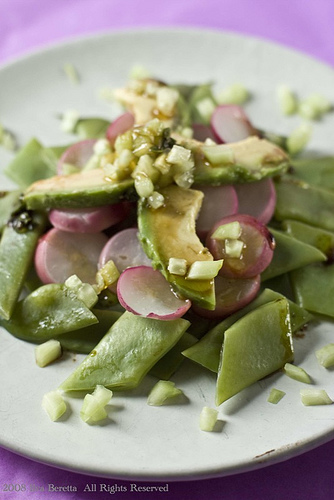cucumber: (136, 183, 217, 313), (16, 156, 136, 212), (197, 136, 293, 186)
